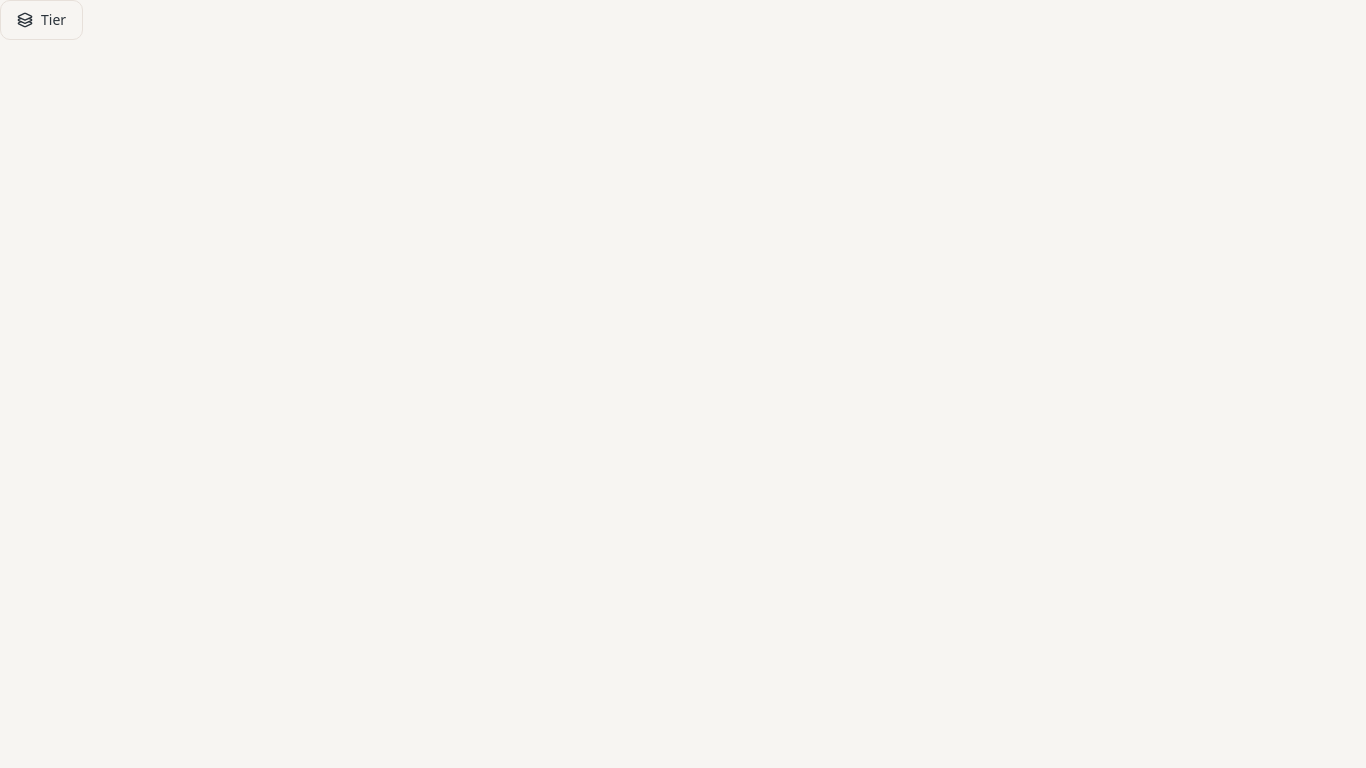
Test: asks to name the original quotation the first time without changing its items
The width and height of the screenshot is (1366, 768).
Later steps or results of the test are not shown.
Click the button "Tier".
click(42, 20)  # box [0, 0, 83, 40]
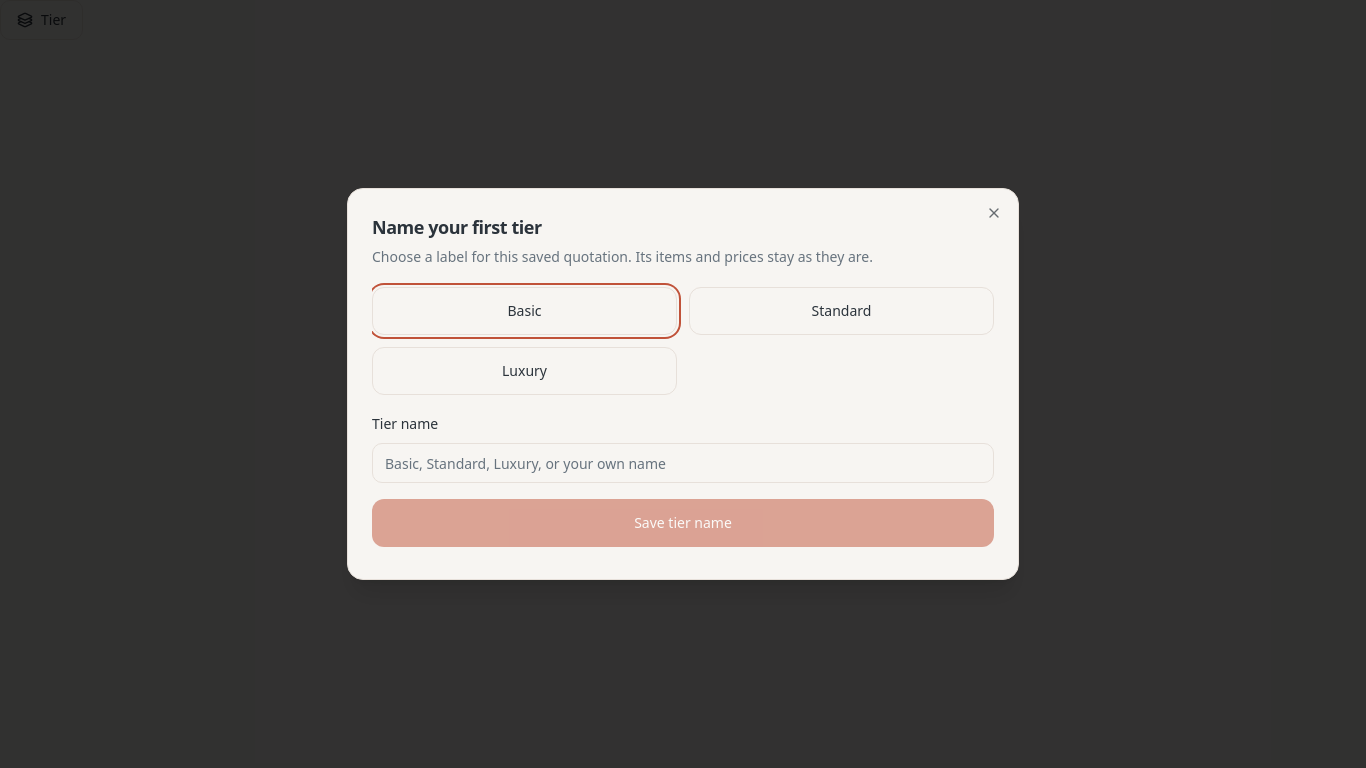
Expected: the heading "Name your first tier" is shown, [372, 215, 542, 239]
